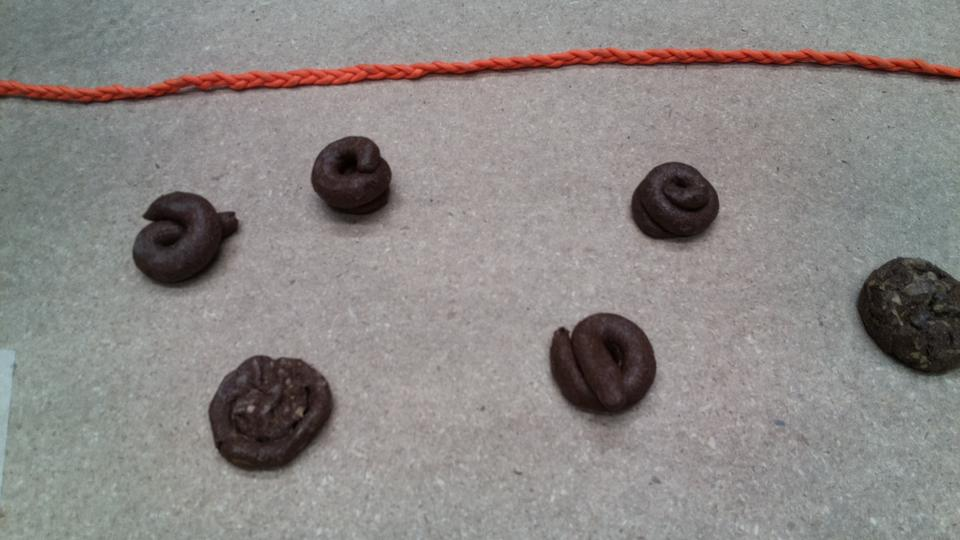poop: (203, 352, 335, 474), (852, 251, 960, 378), (549, 310, 659, 421), (129, 190, 243, 296), (622, 158, 725, 247), (304, 136, 395, 221)
rope: (517, 39, 960, 87), (3, 66, 406, 110), (357, 57, 585, 91)
